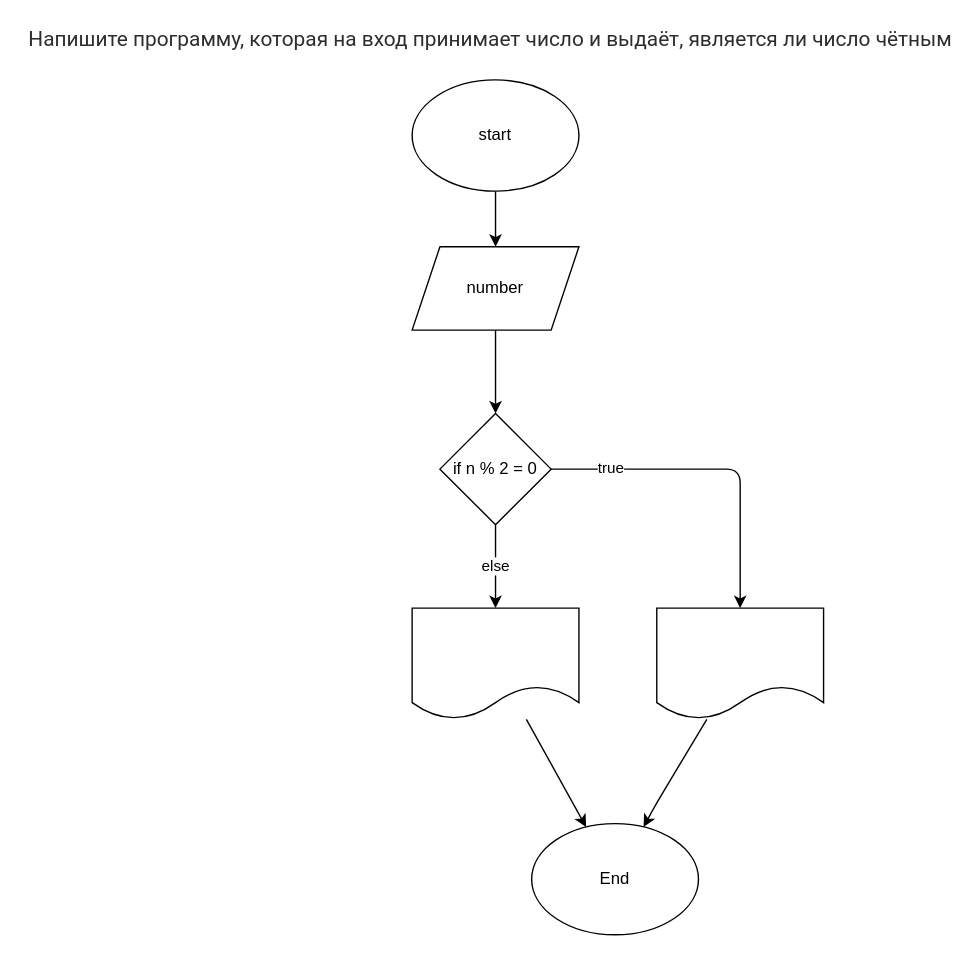
This 979x959 diagram has some shape labels left out. The shapes that lost their labels are listed below. From the top down, each one's centre as x and y in pixels, then its label:
the point at 495,663: Число нечетное
the point at 739,663: Число четное
